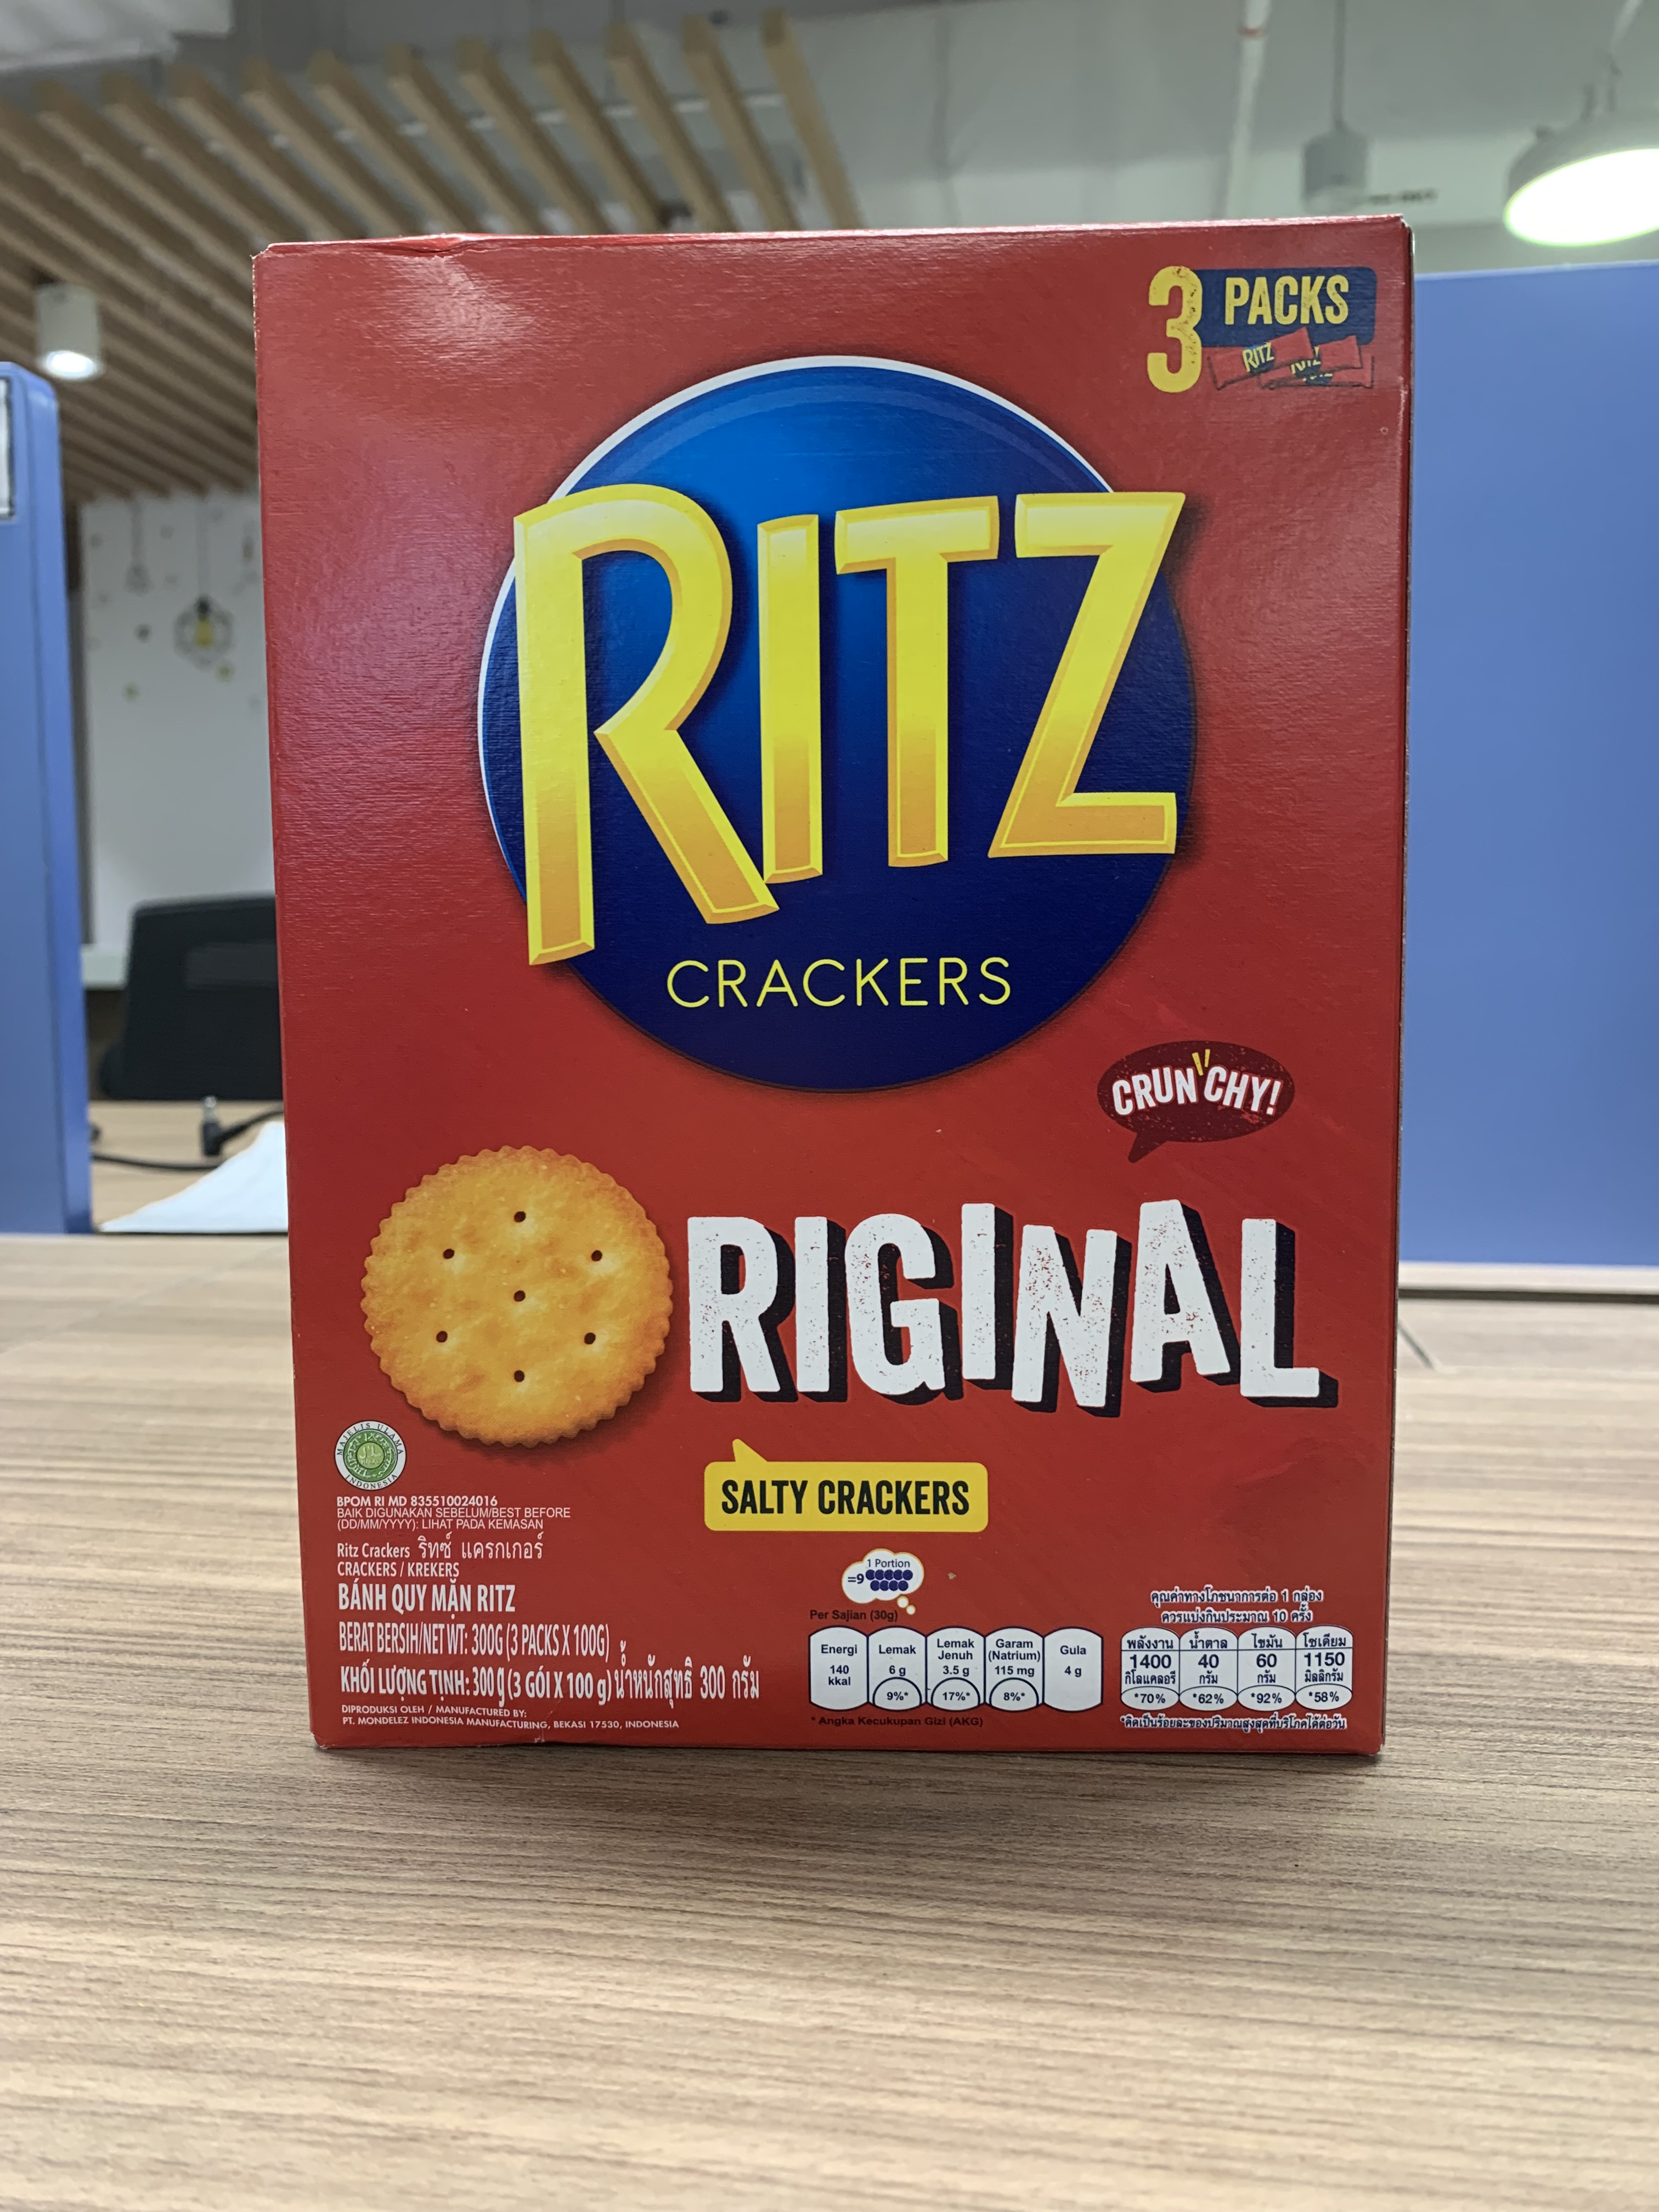crackers_300g-399g: (314, 239, 1373, 1743)
